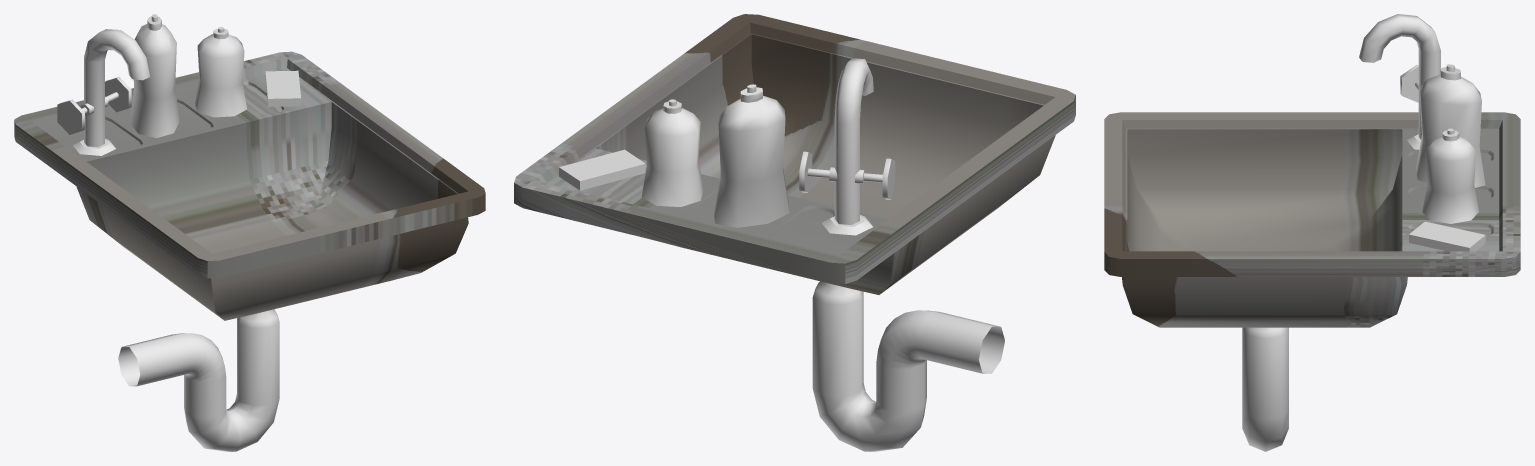
File: Sink_high.fbx
The picture shows the model from 3 angles, left to right: view 1: azimuth 30°, elevation 25°; view 2: azimuth 150°, elevation 25°; view 3: azimuth 270°, elevation 25°; orthographic projection. The views are drawn at different scales.
Visible parts, largest first — view 1: Sink_high, Sink_high.001, Sink_high.006, Sink_high.003, Sink_high.005, Sink_high.004, Sink_high.002; view 2: Sink_high, Sink_high.001, Sink_high.006, Sink_high.005, Sink_high.003, Sink_high.002, Sink_high.004; view 3: Sink_high, Sink_high.001, Sink_high.006, Sink_high.005, Sink_high.003, Sink_high.002, Sink_high.004.
Part boxes in pixels (<box>): Sink_high: <box>14,51,485,320</box>; Sink_high.001: <box>118,309,279,451</box>; Sink_high.006: <box>130,14,179,137</box>; Sink_high.003: <box>73,29,150,155</box>; Sink_high.005: <box>195,27,246,117</box>; Sink_high.004: <box>57,76,131,134</box>; Sink_high.002: <box>265,70,301,106</box>; Sink_high: <box>514,14,1075,294</box>; Sink_high.001: <box>812,281,1004,451</box>; Sink_high.006: <box>714,84,789,227</box>; Sink_high.005: <box>641,99,703,206</box>; Sink_high.003: <box>821,58,873,235</box>; Sink_high.002: <box>559,149,645,190</box>; Sink_high.004: <box>799,151,895,199</box>; Sink_high: <box>1104,112,1520,327</box>; Sink_high.001: <box>1242,327,1288,451</box>; Sink_high.006: <box>1416,64,1485,187</box>; Sink_high.005: <box>1422,128,1478,223</box>; Sink_high.003: <box>1359,14,1440,149</box>; Sink_high.002: <box>1409,221,1485,251</box>; Sink_high.004: <box>1400,65,1418,102</box>.
Bounding box in the file's own units: 50 × 64.3 × 60.
